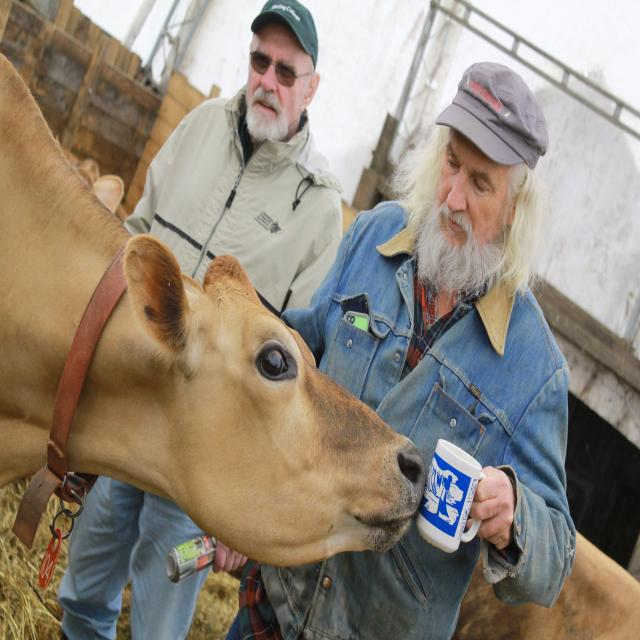cow: (0, 54, 425, 566)
